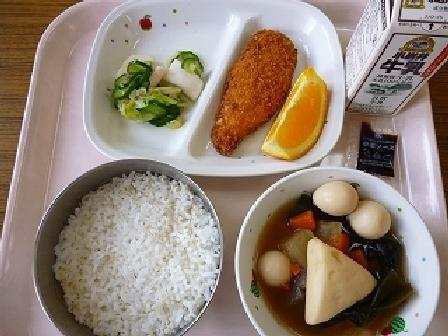Citrus: (267, 74, 342, 161)
Milk: (337, 2, 447, 115)
Rice: (35, 168, 224, 329)
Salad: (101, 39, 206, 133)
cutlet: (202, 21, 290, 157)
vegetable soup: (240, 170, 432, 330)
